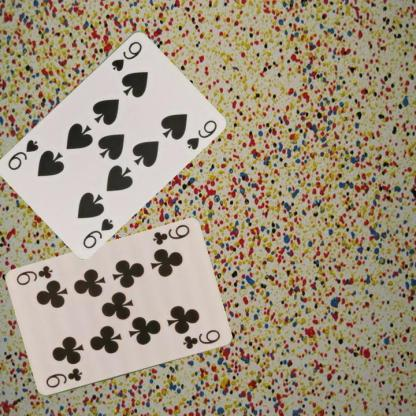9c: (43, 365, 84, 390), (150, 222, 190, 247)
9s: (80, 215, 115, 250), (109, 38, 143, 72)
